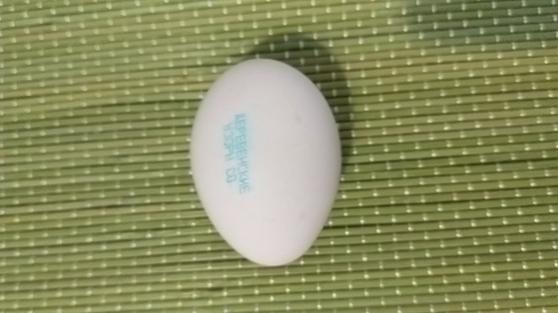egg: (189, 56, 343, 266)
